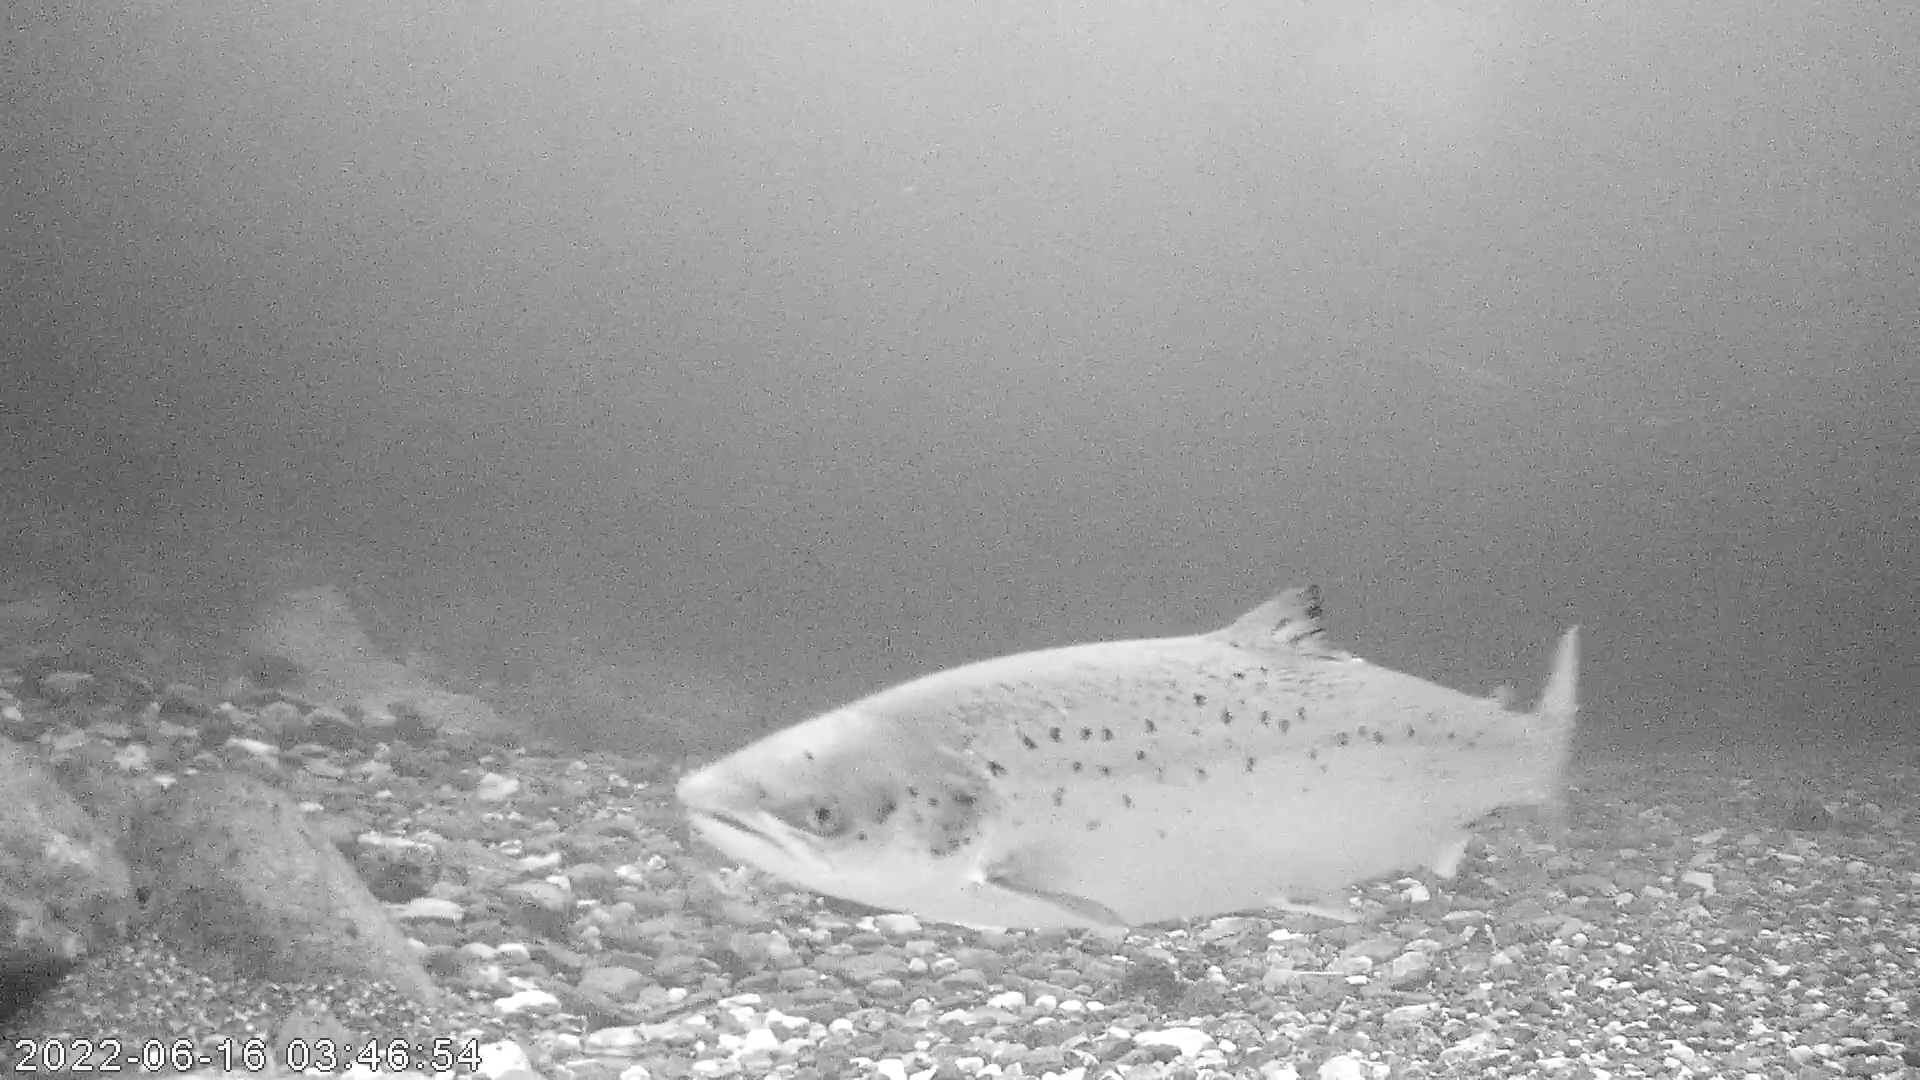salmon: (669, 580, 1582, 939)
